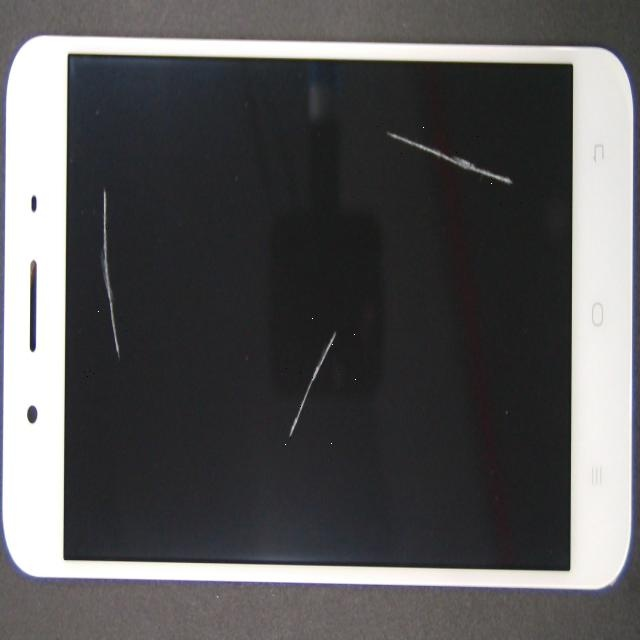scratch: (133, 225, 418, 640), (257, 102, 640, 307), (63, 251, 190, 530)
